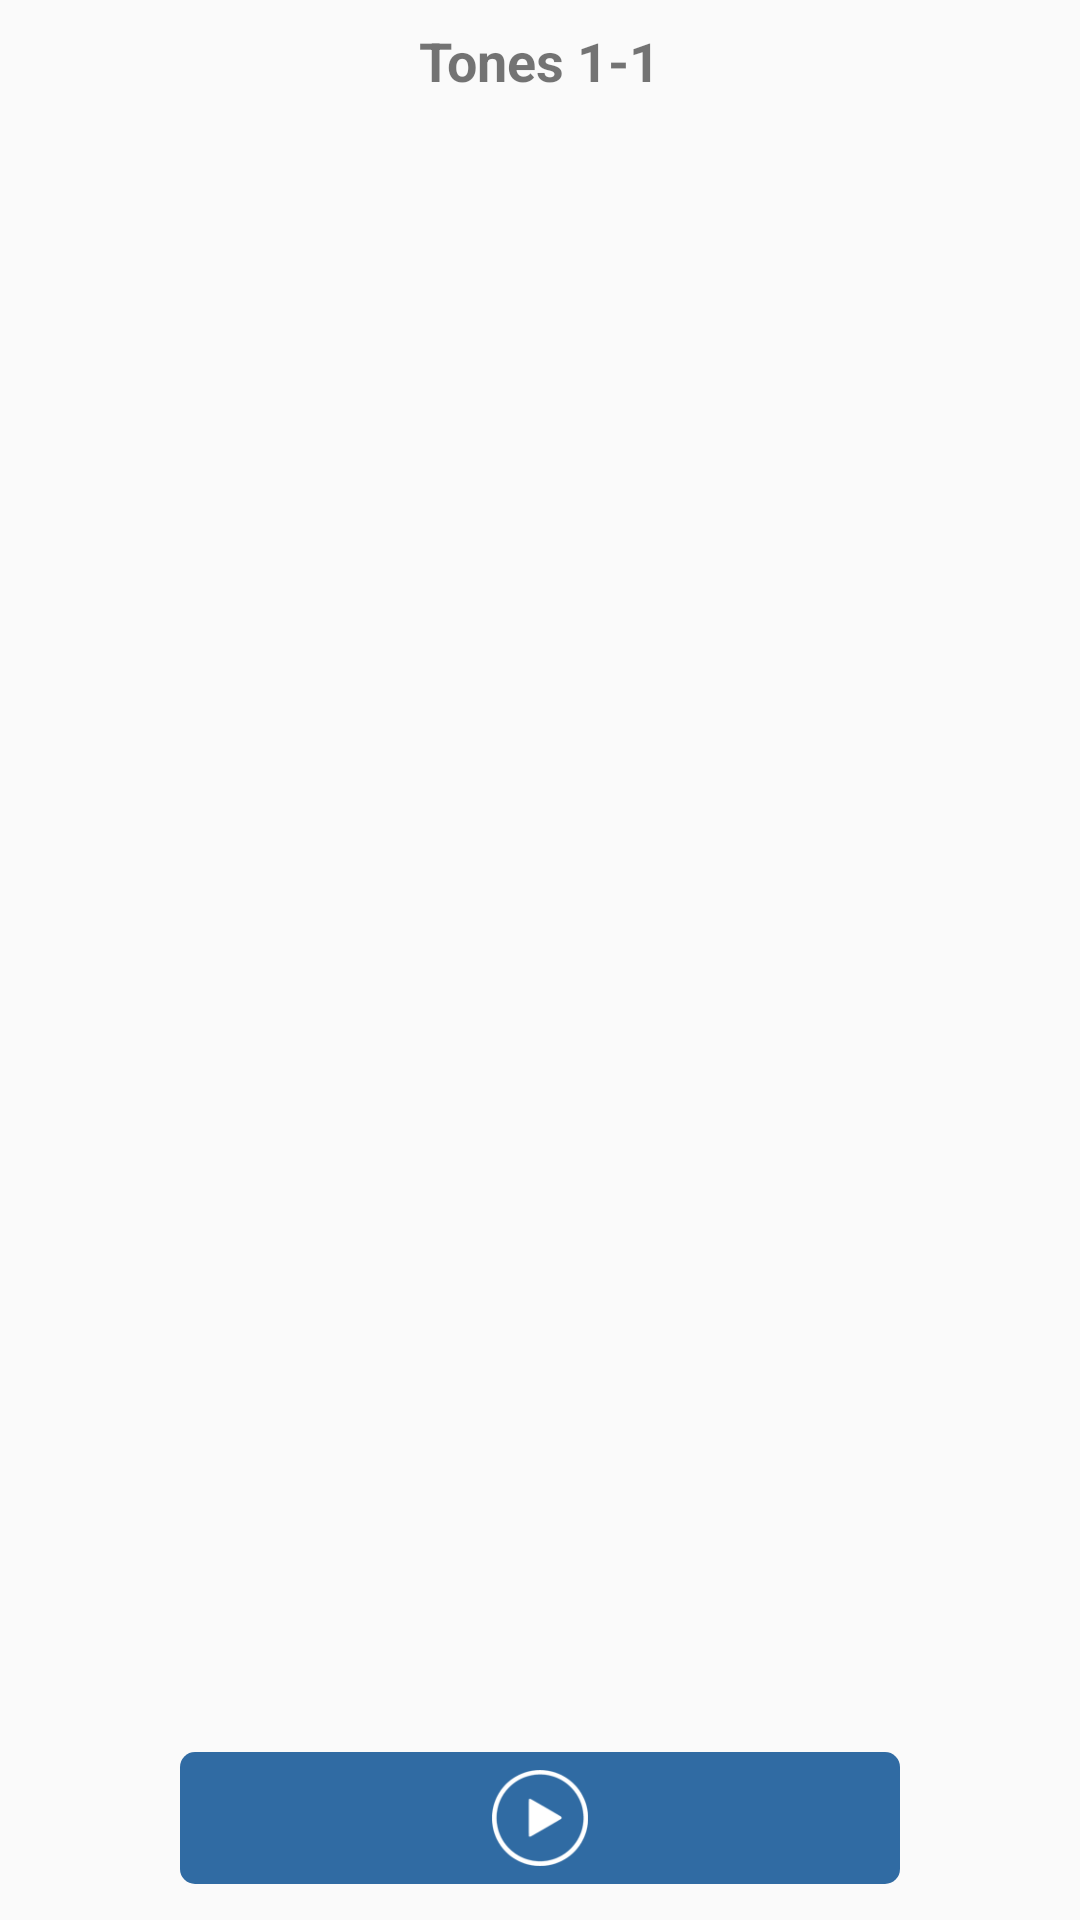

Where to tap for icons on this 1080x1920 app screen, as (x=x, y=y):
play: (x=540, y=1818)
